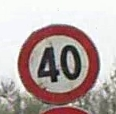limite 40: (15, 22, 98, 103)
